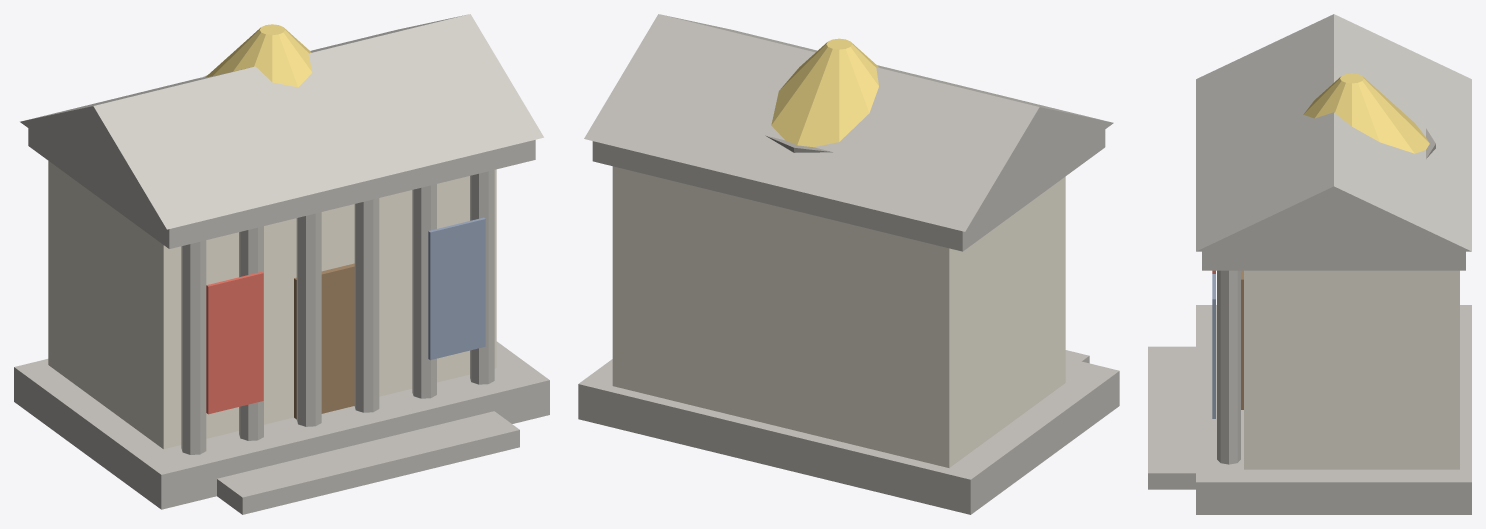
File: museum.glb
3 renders of one model, left to right at view 1: azimuth 30°, elevation 25°; view 2: azimuth 150°, elevation 25°; view 3: azimuth 270°, elevation 25°, orthographic. The views are drawn at different scales.
Visible parts, largest first — view 1: museum; view 2: museum; view 3: museum.
Part boxes in pixels (x1=…): museum: x1=14, y1=14, x2=549, y2=514; museum: x1=578, y1=14, x2=1119, y2=514; museum: x1=1148, y1=14, x2=1471, y2=514.
Size of the model in its own units: 7 by 6.4 by 5.4.
